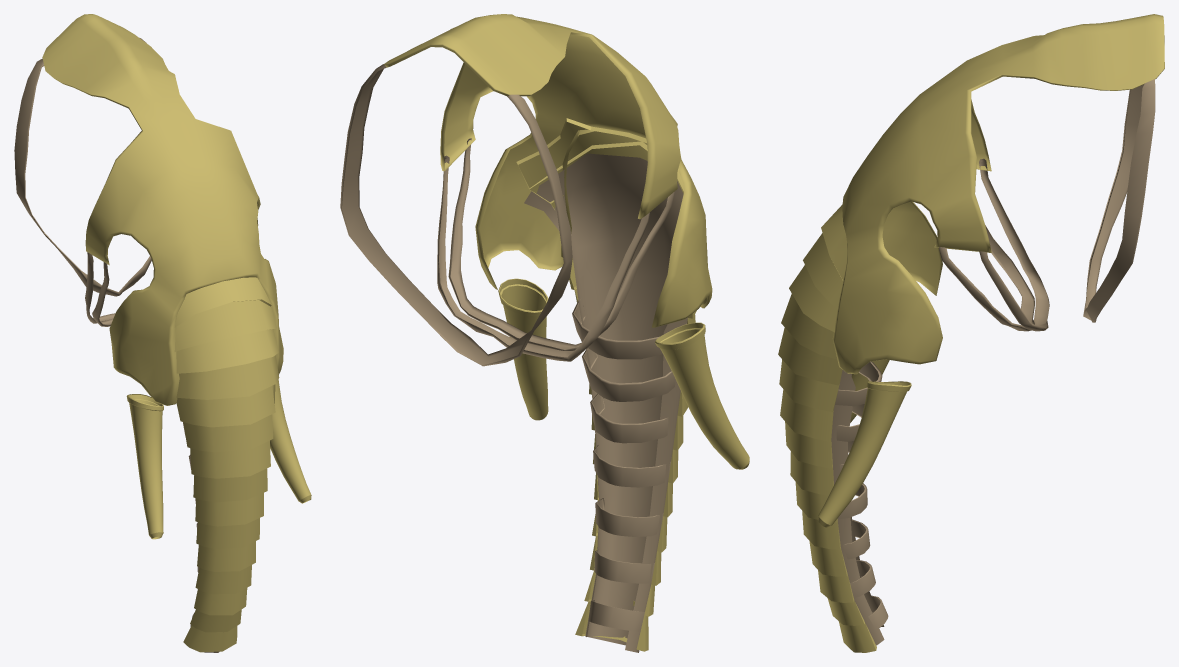
File: FaceeArmour.fbx
3 renders of one model, left to right at view 1: azimuth 30°, elevation 25°; view 2: azimuth 150°, elevation 25°; view 3: azimuth 270°, elevation 25°, orthographic. The views are drawn at different scales.
Visible parts, largest first — view 1: Armour, Armor1, TusksArmor, Straps; view 2: Armour, Pads, Straps, ArmorStrap, TusksArmor, Armor1; view 3: Armour, Armor1, Straps, TusksArmor, ArmorStrap, Pads.
Boxes of the visible parts, <box> form: Armour: <box>42,14,283,405</box>; Armor1: <box>174,277,279,652</box>; TusksArmor: <box>126,379,311,539</box>; Straps: <box>14,38,151,326</box>; Armour: <box>383,14,712,327</box>; Pads: <box>524,153,687,652</box>; Straps: <box>340,64,674,366</box>; ArmorStrap: <box>572,299,686,631</box>; TusksArmor: <box>498,278,749,469</box>; Armor1: <box>516,118,696,651</box>; Armour: <box>832,14,1164,374</box>; Armor1: <box>778,204,876,652</box>; Straps: <box>939,79,1155,331</box>; TusksArmor: <box>818,359,911,527</box>; ArmorStrap: <box>835,361,888,630</box>; Pads: <box>831,370,884,645</box>.
Bounding box in the file's own units: 77.18 × 239 × 133.
